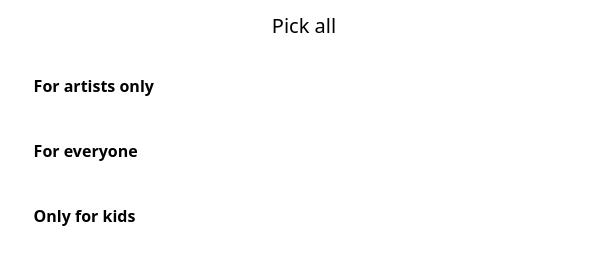
ChoiceBranch › multi-select: reveals the option body only while that option is selected
Click the checkbox with test id "choice-option-a": (94, 86) [16,60,592,113]
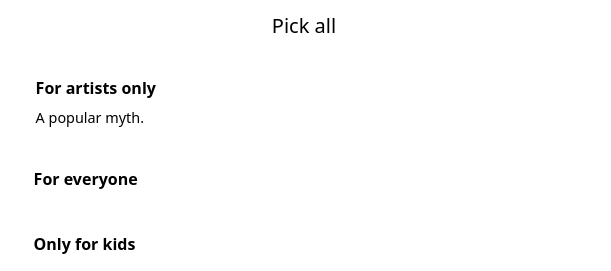
Now the text "A popular myth." is shown, box [36,108,144,129]
Click the checkbox with test id "choice-option-a": (96, 88) [18,62,594,143]
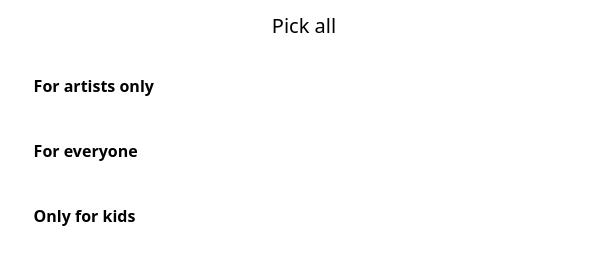
Now the text with test id "choice-body-a" is gone
